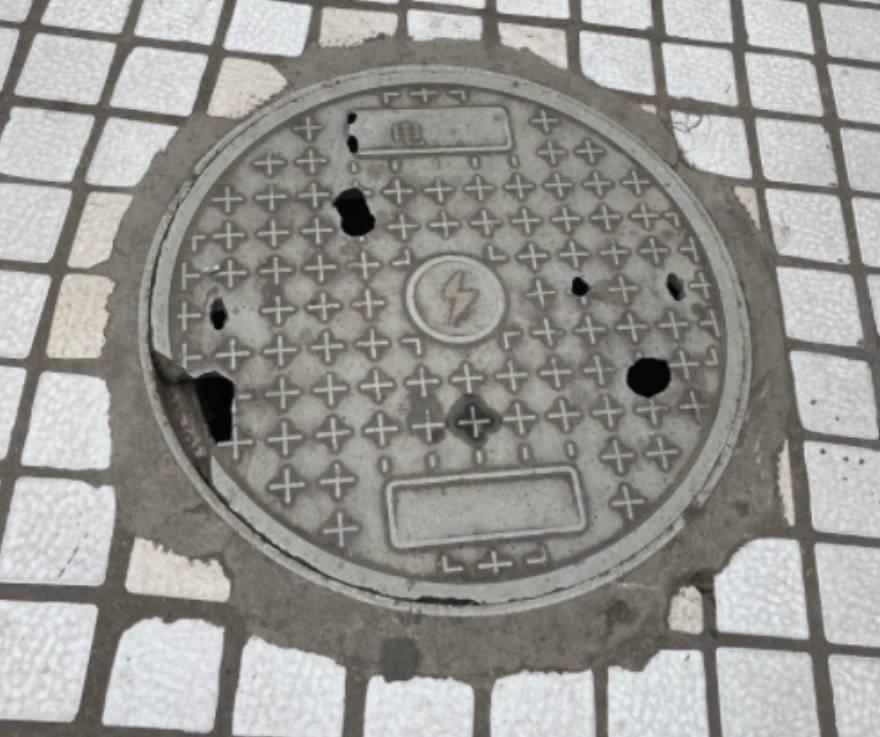wellcover: (155, 52, 759, 619)
